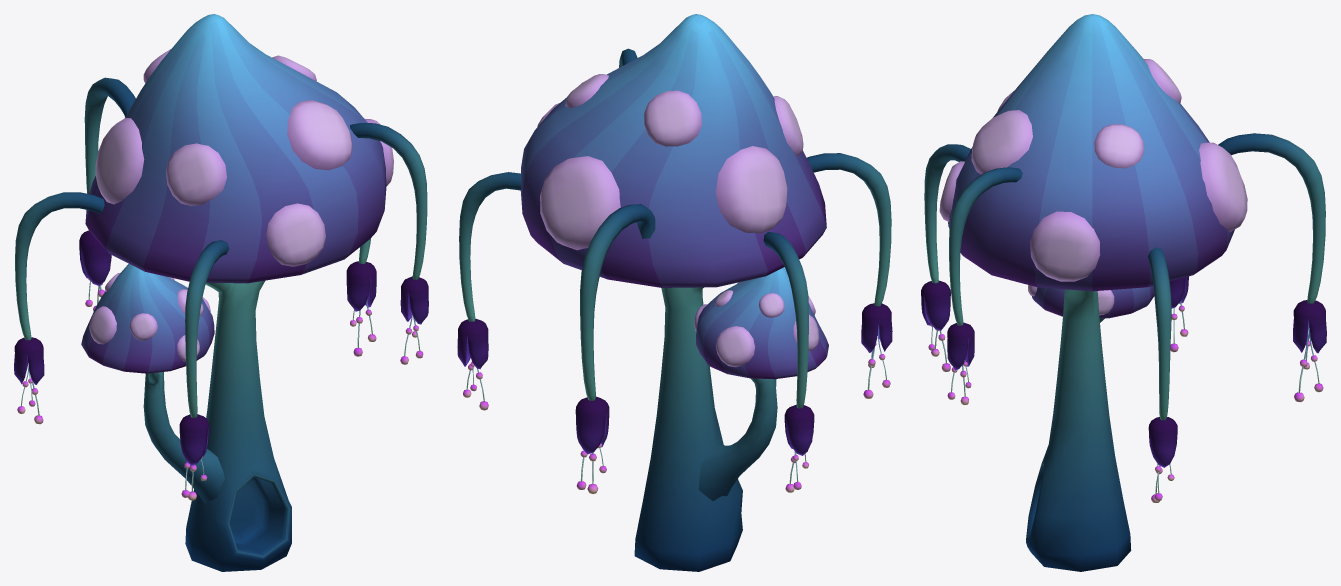
File: anp_tree_10.fbx
The picture shows the model from 3 angles, left to right: view 1: azimuth 30°, elevation 25°; view 2: azimuth 150°, elevation 25°; view 3: azimuth 270°, elevation 25°; orthographic projection. The views are drawn at different scales.
Visible parts, largest first — view 1: t10; view 2: t10; view 3: t10.
Part boxes in pixels (<box>): t10: <box>14,14,428,571</box>; t10: <box>457,14,892,571</box>; t10: <box>921,14,1326,571</box>.
Size of the model in its own units: 314 by 459 by 316.
